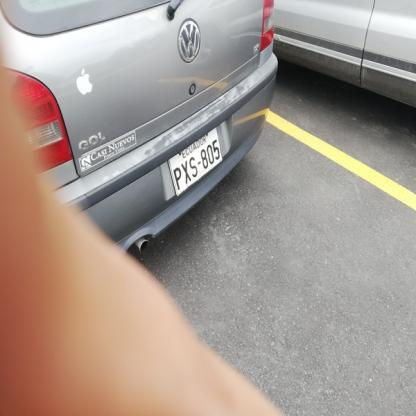Placa: (156, 124, 232, 190)
